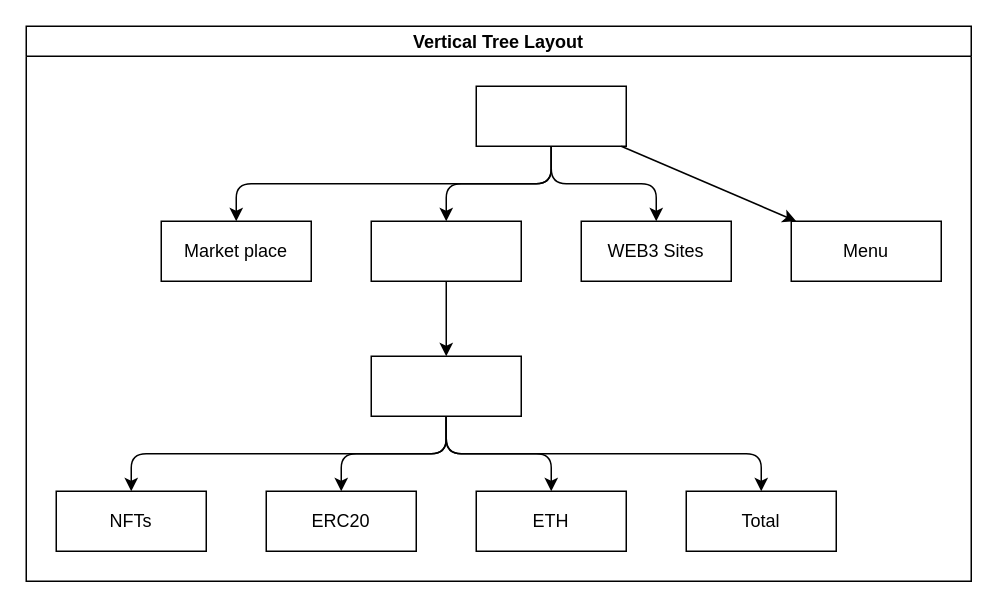
Some shapes in this 998 by 608 pixel diagram are drawn without their labels. The centre of each missing label's shape, as x and y in pixels:
Balances: pixel 445 250
General: pixel 550 115
Tabs: pixel 445 385
